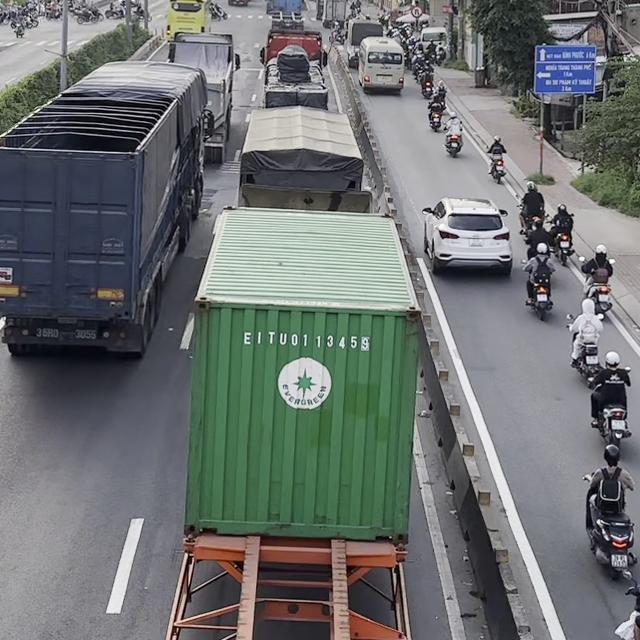bus: (357, 36, 404, 93), (165, 0, 212, 41)
car: (421, 196, 513, 276)
motorcycle: (582, 475, 637, 580), (588, 366, 632, 448), (565, 313, 602, 386), (578, 256, 616, 319), (521, 260, 554, 321), (544, 213, 575, 266), (485, 145, 506, 184), (443, 121, 463, 157), (427, 102, 444, 131), (420, 78, 433, 98)
truck: (164, 182, 424, 640), (0, 60, 215, 359), (239, 105, 365, 192), (166, 31, 241, 163), (259, 28, 330, 111), (345, 19, 383, 68), (271, 0, 304, 31)
